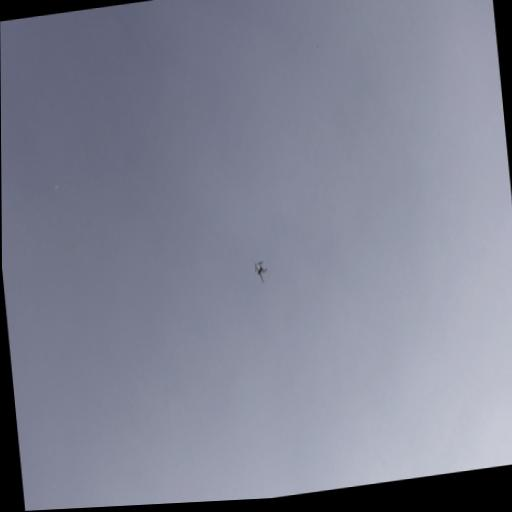drones: (253, 257, 270, 286)
